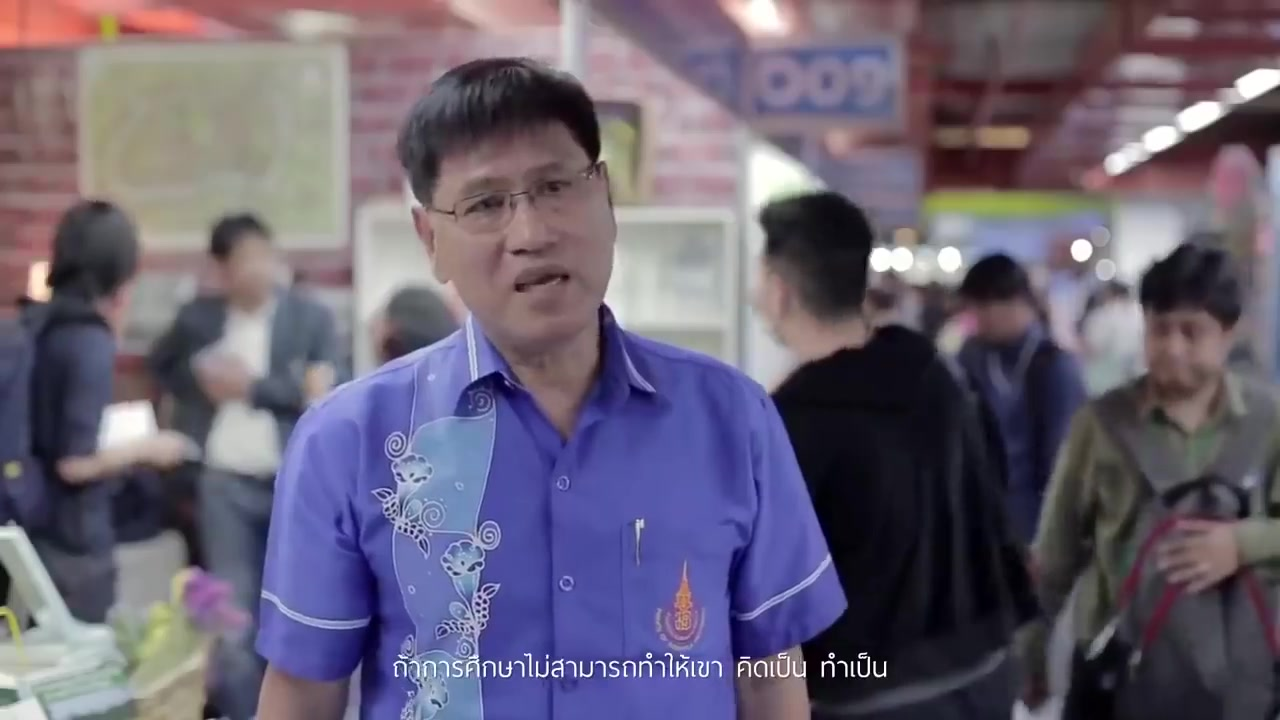text-label: (390, 646, 890, 686)
